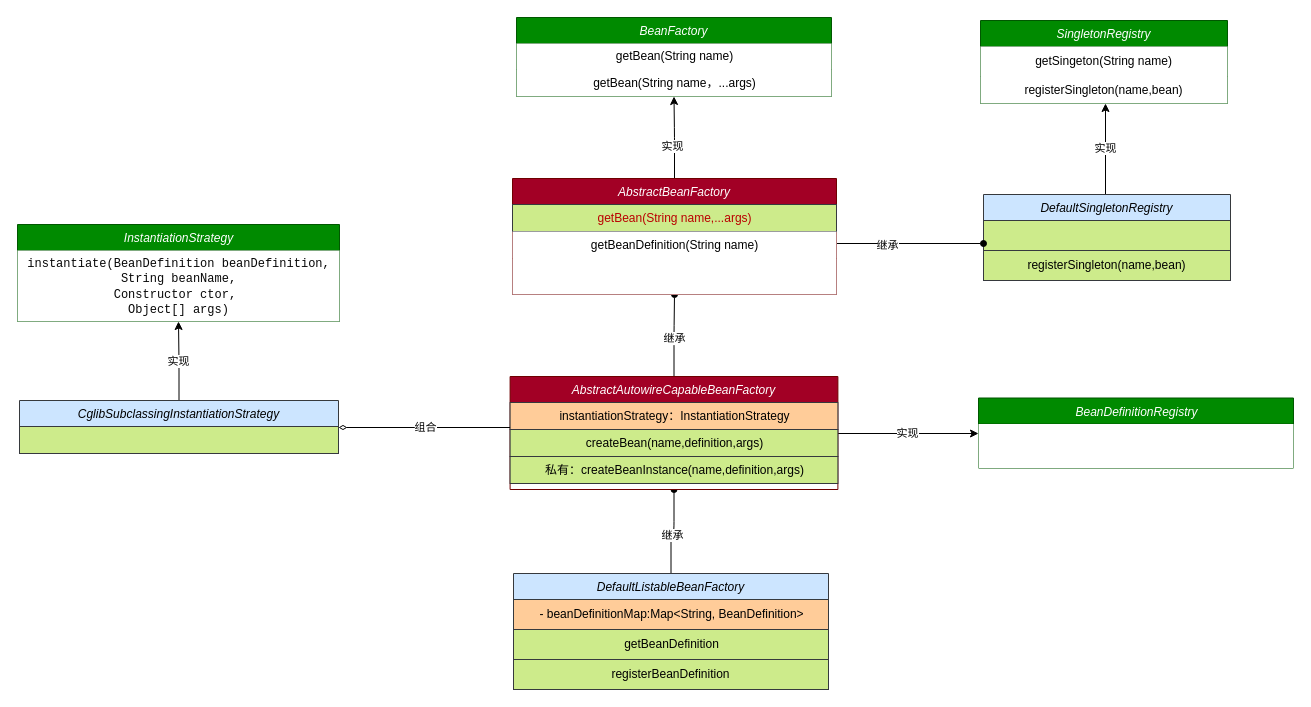
The diagram is 1311 pixels wide and 707 high, and some of its shapes have lost their labels. Here are the shapes that lost their labels. From the top down, the centre of each, then its label:
At point 1106,235: "getSingeton(name)".
At point 674,276: "createBean(String name,BeanDefinition beanDefinition)".
At point 178,440: "instantiate".
At point 1135,446: "registerBeanDefinition(String beanName, BeanDefinition beanDefinition )".
